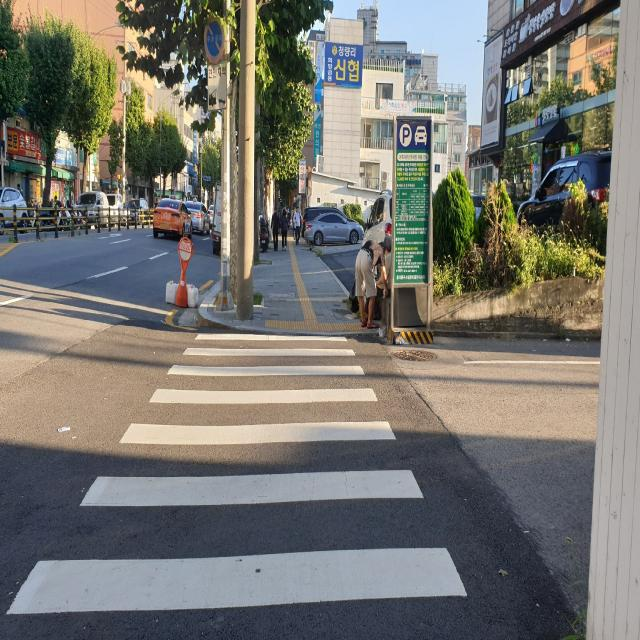횡단보도: (7, 330, 469, 618)
